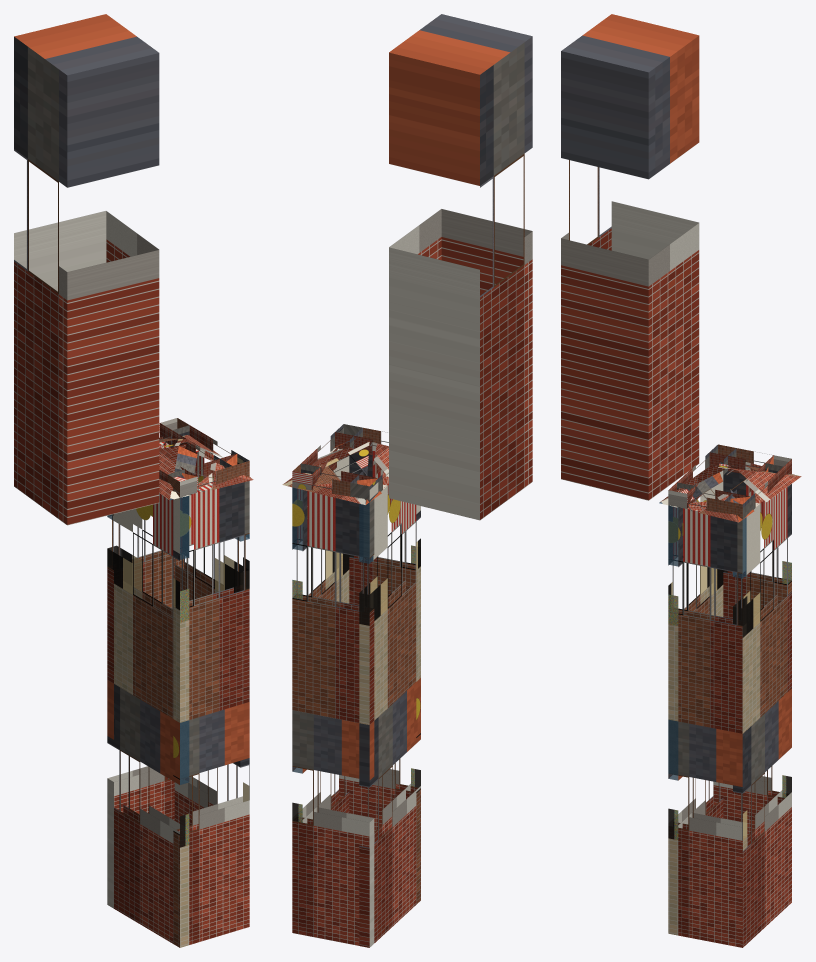
3 renders of one model, left to right at view 1: azimuth 30°, elevation 25°; view 2: azimuth 150°, elevation 25°; view 3: azimuth 330°, elevation 25°, orthographic. The views are drawn at different scales.
Visible parts, largest first — view 1: 238572345__chimney_0_xb, 238572345__wall_0_xb, 238572345__wall_3_xb, 238572345__wall_2_xb, 238572345__wall_1_xb, 238572345__wall_3_xf, 238572345__cornice_0, 238572345__cornice_1, 238572345_roof_front_xb, 238572345__wall_1_xf, 238572345_roof_left_xb; view 2: 238572345__chimney_0_xb, 238572345__wall_2_xb, 238572345__wall_3_xb, 238572345__wall_0_xb, 238572345__wall_1_xb, 238572345__wall_3_xf, 238572345__cornice_2, 238572345__wall_1_xf, 238572345_roof_back_xb, 238572345__cornice_1, 238572345__cornice_0, 238572345__cornice_3; view 3: 238572345__chimney_0_xb, 238572345__wall_0_xb, 238572345__wall_1_xb, 238572345__wall_3_xb, 238572345__wall_2_xb, 238572345__wall_3_xf, 238572345__wall_1_xf, 238572345_roof_right_xb, 238572345__cornice_2, 238572345__cornice_0, 238572345__cornice_1, 238572345__cornice_3 (+1 smaller).
Part boxes in pixels (x1=…): 238572345__chimney_0_xb: x1=14, y1=14, x2=159, y2=525; 238572345__wall_0_xb: x1=173, y1=477, x2=249, y2=947; 238572345__wall_3_xb: x1=107, y1=493, x2=189, y2=947; 238572345__wall_2_xb: x1=107, y1=441, x2=183, y2=908; 238572345__wall_1_xb: x1=168, y1=446, x2=249, y2=825; 238572345__wall_3_xf: x1=107, y1=496, x2=188, y2=846; 238572345__cornice_0: x1=167, y1=453, x2=249, y2=497; 238572345__cornice_1: x1=160, y1=418, x2=249, y2=467; 238572345_roof_front_xb: x1=170, y1=446, x2=253, y2=499; 238572345__wall_1_xf: x1=215, y1=534, x2=249, y2=592; 238572345_roof_left_xb: x1=159, y1=444, x2=186, y2=499; 238572345__chimney_0_xb: x1=389, y1=14, x2=532, y2=520; 238572345__wall_2_xb: x1=292, y1=491, x2=374, y2=947; 238572345__wall_3_xb: x1=359, y1=484, x2=420, y2=947; 238572345__wall_0_xb: x1=339, y1=451, x2=420, y2=904; 238572345__wall_1_xb: x1=292, y1=448, x2=353, y2=823; 238572345__wall_3_xf: x1=359, y1=503, x2=420, y2=787; 238572345__cornice_2: x1=292, y1=463, x2=378, y2=501; 238572345__wall_1_xf: x1=292, y1=488, x2=353, y2=821; 238572345_roof_back_xb: x1=282, y1=442, x2=369, y2=504; 238572345__cornice_1: x1=292, y1=424, x2=362, y2=490; 238572345__cornice_0: x1=335, y1=427, x2=388, y2=455; 238572345__cornice_3: x1=350, y1=460, x2=388, y2=501; 238572345__chimney_0_xb: x1=561, y1=14, x2=699, y2=500; 238572345__wall_0_xb: x1=668, y1=508, x2=747, y2=947; 238572345__wall_1_xb: x1=733, y1=484, x2=791, y2=947; 238572345__wall_3_xb: x1=668, y1=471, x2=727, y2=935; 238572345__wall_2_xb: x1=713, y1=470, x2=791, y2=835; 238572345__wall_3_xf: x1=668, y1=506, x2=726, y2=839; 238572345__wall_1_xf: x1=733, y1=512, x2=791, y2=797; 238572345_roof_right_xb: x1=715, y1=466, x2=801, y2=522; 238572345__cornice_2: x1=709, y1=444, x2=783, y2=473; 238572345__cornice_0: x1=673, y1=482, x2=750, y2=519; 238572345__cornice_1: x1=724, y1=455, x2=791, y2=519; 238572345__cornice_3: x1=668, y1=445, x2=736, y2=508.
Bounding box in the file's own units: 0.3039 × 1.4 × 0.187.
Materials: 1 (1 with a texture image).
